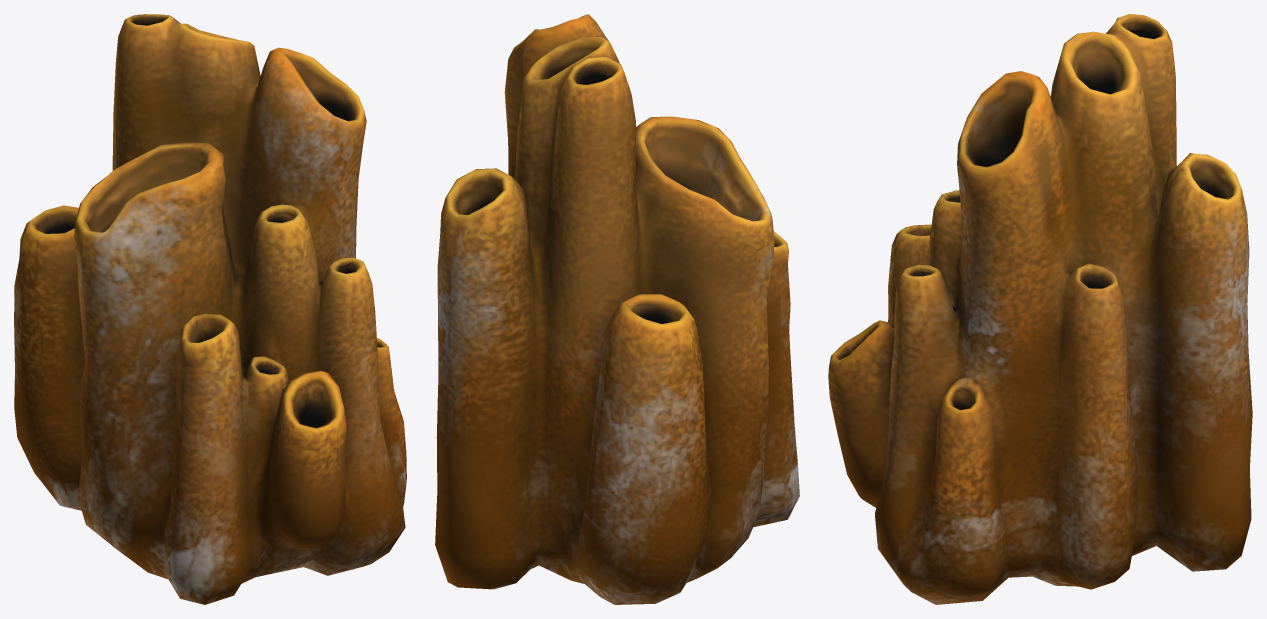
File: Coral06.fbx
3 views of the same model, side by side, from view 1: azimuth 30°, elevation 25°; view 2: azimuth 150°, elevation 25°; view 3: azimuth 270°, elevation 25° (orthographic). The views are drawn at different scales.
Visible parts, largest first — view 1: Coral_15_1; view 2: Coral_15_1; view 3: Coral_15_1.
Boxes of the visible parts, x1=… form: Coral_15_1: x1=14, y1=14, x2=406, y2=604; Coral_15_1: x1=435, y1=14, x2=799, y2=604; Coral_15_1: x1=828, y1=14, x2=1252, y2=604.
Size of the model in its own units: 97.99 by 172 by 122.
